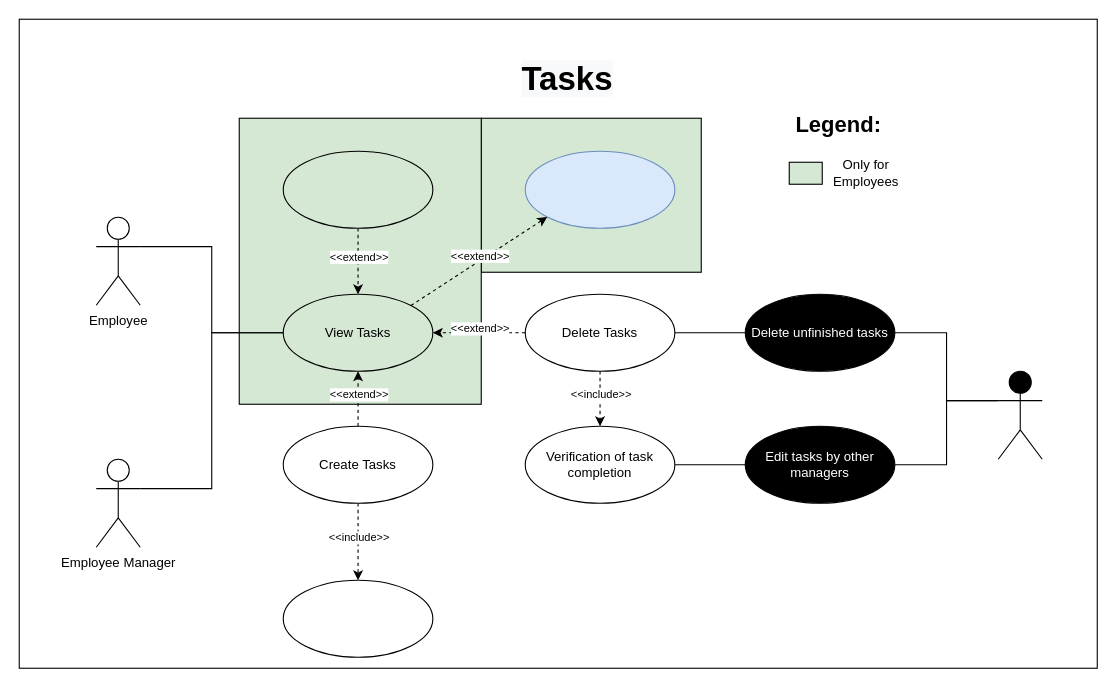
Image size: 1117x688. Some labels were removed from this diagram. The centre of each missing label's shape, as x and y in pixels:
"Delegation of tasks to employee" goes at point 357,618.
"Edit Status of Tasks" goes at point 357,189.
"Employee Main Page" goes at point 599,189.
"Threat Actor" goes at point 1019,414.
